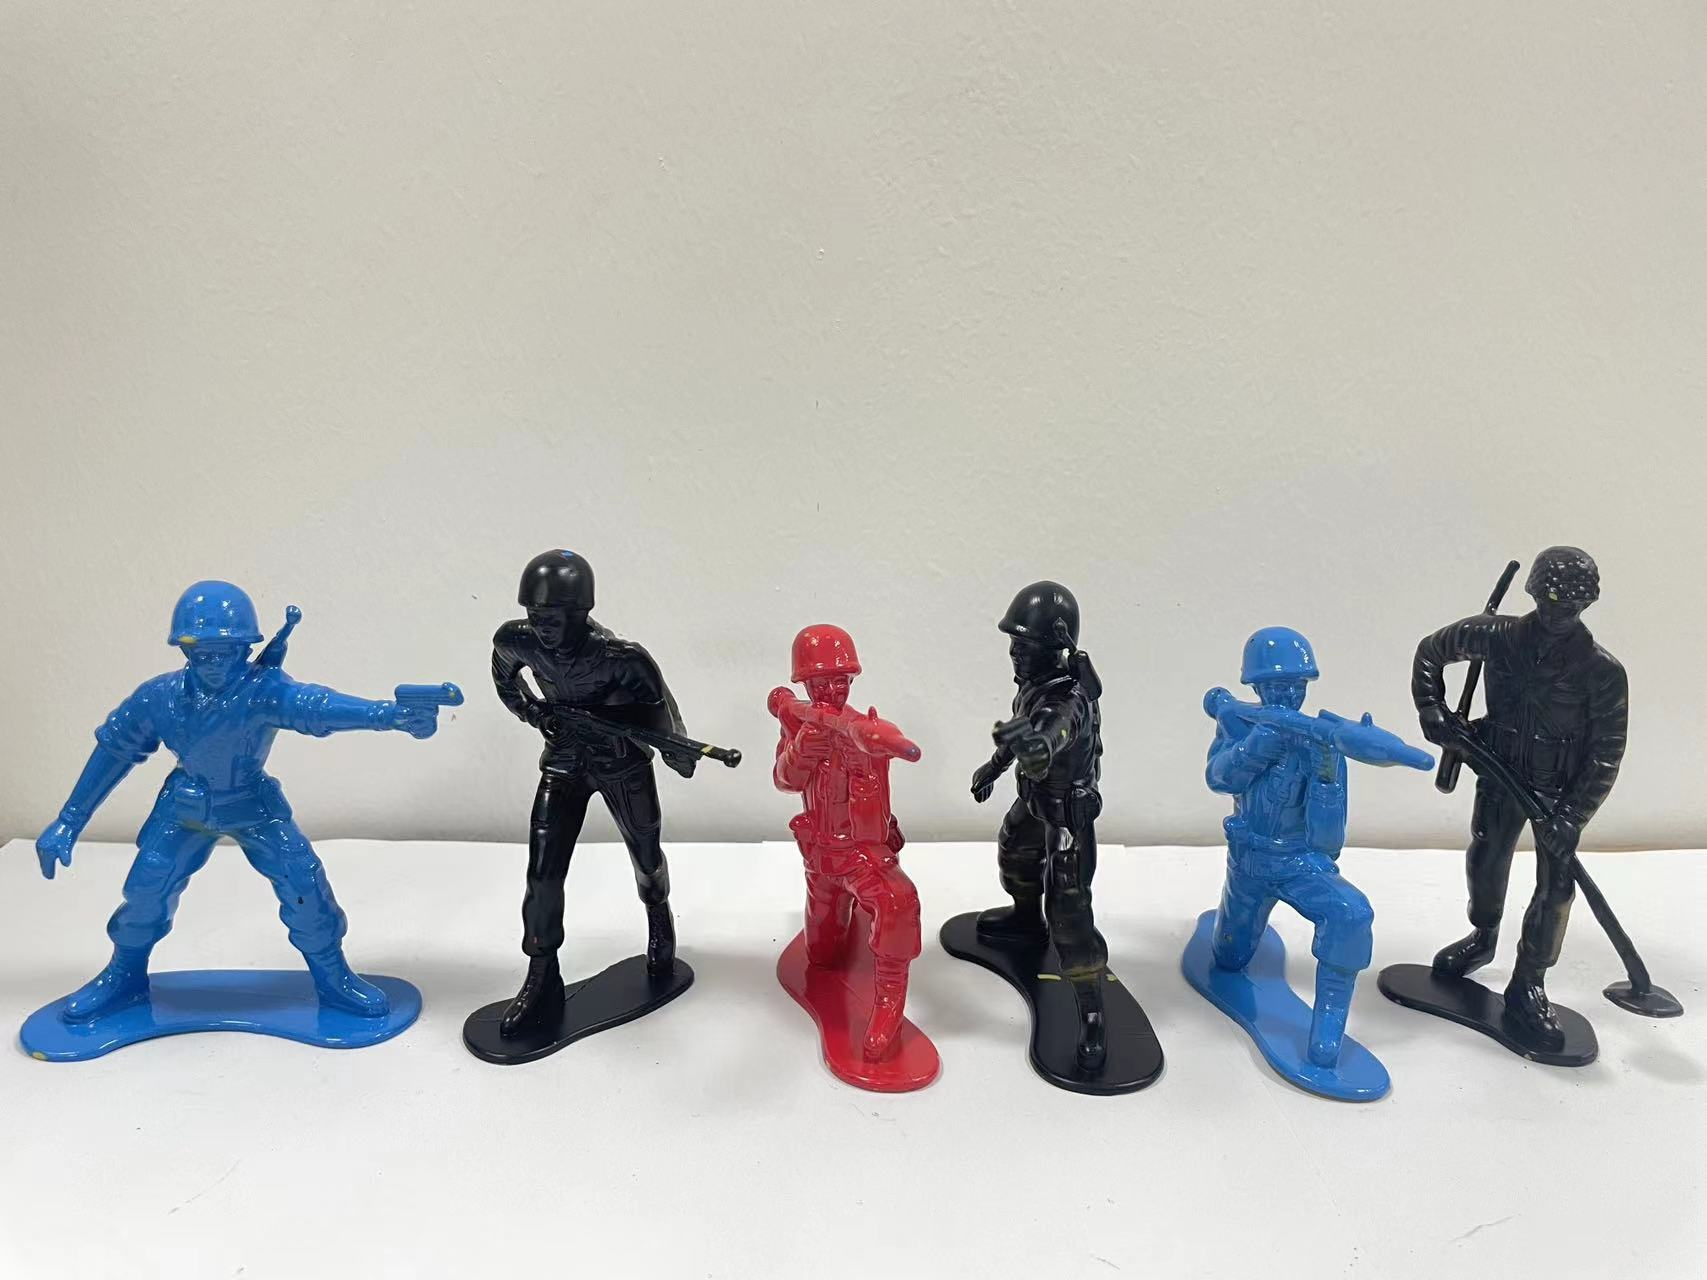black: (433, 549, 727, 1113), (934, 543, 1167, 1167)
blue: (19, 549, 442, 1101), (1176, 612, 1380, 1113)
red: (1388, 504, 1707, 1121), (730, 575, 958, 1128)
